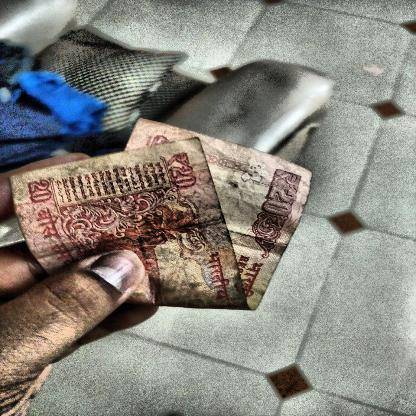Rs20: (253, 165, 310, 222), (160, 150, 201, 196), (22, 176, 56, 209)
